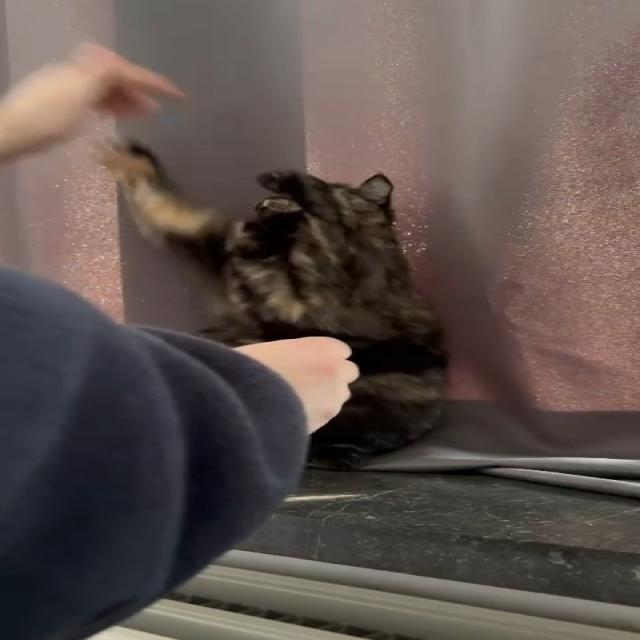authorized: (94, 137, 450, 470)
